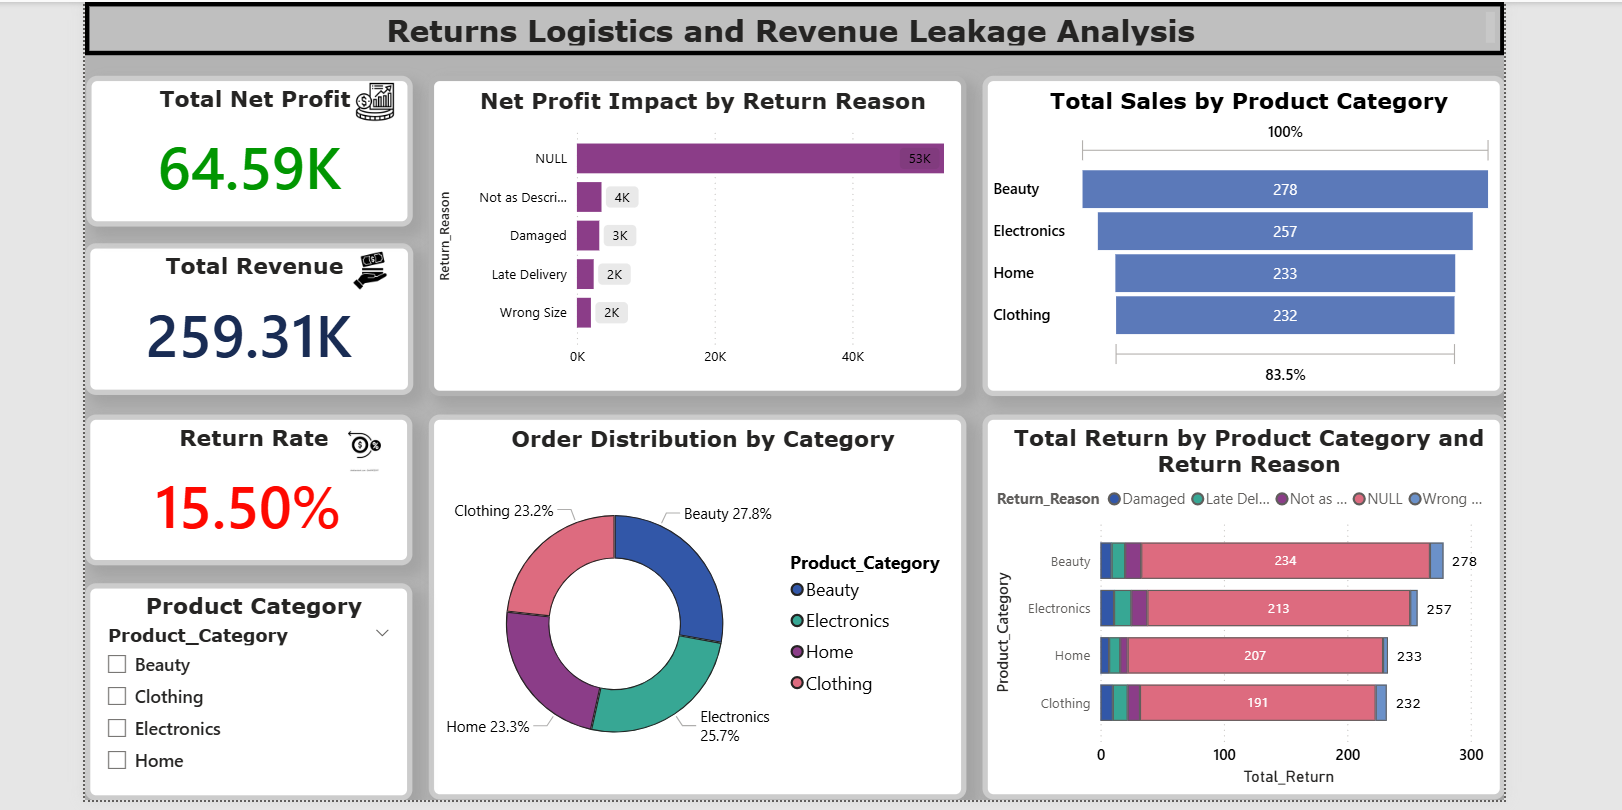

What the dashboard file says about the page in this screenshot:
{"tool":"powerbi","page":{"name":"Page 1","canvas":[1280,720],"ordinal":0},"visuals":[{"type":"textbox","box":[0,0,1280,48],"z":0},{"type":"card","title":"Total Revenue","fields":{"Values":["Sum(master_cleaned.Sales_Price)"]},"box":[0,217.7,295.9,137],"z":1000},{"type":"card","title":"Total Net Profit","fields":{"Values":["Sum(master_cleaned.Net_Profit)"]},"box":[1.2,66,294.7,135.7],"z":2000},{"type":"card","title":"Return Rate","fields":{"Values":["master_cleaned.Return Rate %"]},"box":[0,372.5,295,136.2],"z":3000},{"type":"donutChart","title":"Order Distribution by Category","fields":{"Y":["CountNonNull(master_cleaned.Order_ID)"],"Category":["master_cleaned.Product_Category"]},"box":[310,372.5,485,347.5],"z":4000},{"type":"clusteredBarChart","title":"Net Profit Impact by Return Reason","fields":{"Y":["Sum(master_cleaned.Net_Profit)"],"Category":["master_cleaned.Return_Reason"]},"box":[310,66.2,485,288.8],"z":5000},{"type":"slicer","title":"Product Category ","fields":{"Values":["master_cleaned.Product_Category"]},"box":[0,523.8,295,196.2],"z":6000},{"type":"funnel","title":"Total Sales by Product Category","fields":{"Category":["master_cleaned.Product_Category"],"Y":["master_cleaned.Total_Sales"]},"box":[808.8,66.2,471.2,288.8],"z":7000},{"type":"barChart","title":"Total Return by Product Category and Return Reason","fields":{"Category":["master_cleaned.Product_Category"],"Y":["master_cleaned.Total_Return"],"Series":["master_cleaned.Return_Reason"]},"box":[808.8,372.5,471.2,347.5],"z":8000},{"type":"image","box":[237.2,67.3,50.1,45.2],"z":9000},{"type":"image","box":[216.4,373,70.9,55],"z":9001},{"type":"image","box":[232.3,220.1,50.1,45.2],"z":9002}]}

Visuals, with their boxes in screenshot pixels (x1, y1, x2, y2):
textbox: crop(76, 0, 1498, 49)
"Total Revenue" card: crop(76, 238, 405, 390)
"Total Net Profit" card: crop(77, 69, 405, 220)
"Return Rate" card: crop(76, 410, 404, 561)
"Order Distribution by Category" donutChart: crop(420, 410, 959, 796)
"Net Profit Impact by Return Reason" clusteredBarChart: crop(420, 69, 959, 390)
"Product Category " slicer: crop(76, 578, 404, 796)
"Total Sales by Product Category" funnel: crop(974, 69, 1498, 390)
"Total Return by Product Category and Return Reason" barChart: crop(974, 410, 1498, 796)
image: crop(340, 71, 395, 121)
image: crop(316, 410, 395, 471)
image: crop(334, 240, 390, 290)
